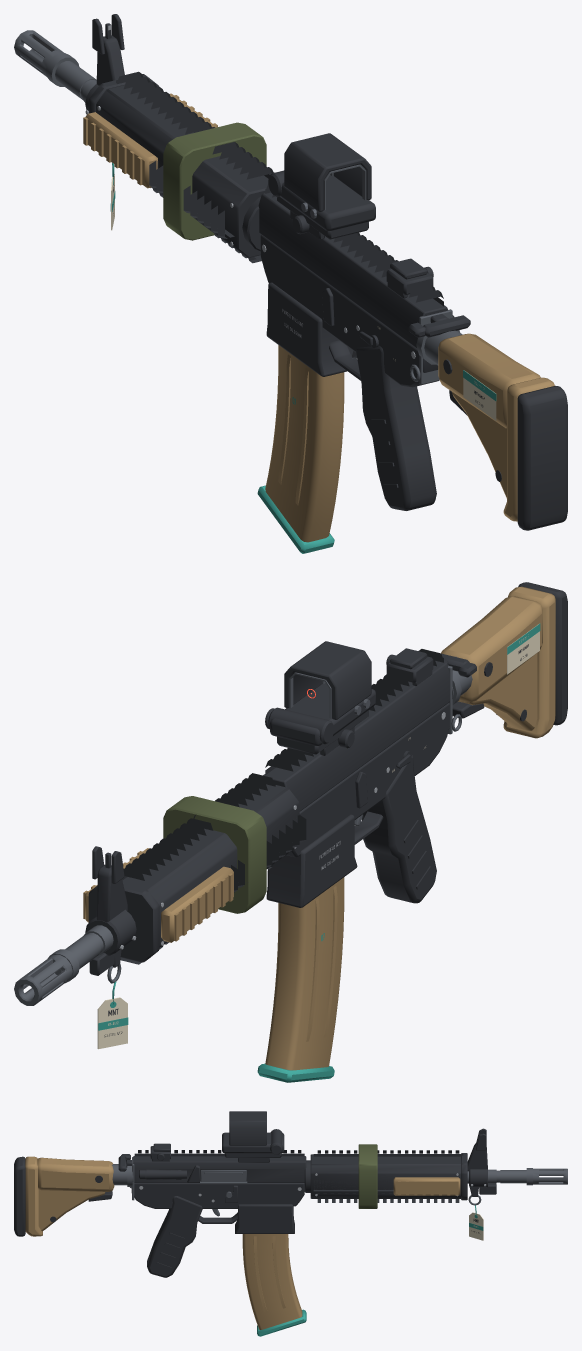
3 views of the same model, one above another, from view 1: azimuth 30°, elevation 25°; view 2: azimuth 150°, elevation 25°; view 3: azimuth 270°, elevation 25° (orthographic). The views are drawn at different scales.
Parts seen in each view (by area): view 1: body, mag, body_fine, charging_handle; view 2: body, mag, body_fine; view 3: body, mag, dust_cover.
Boxes of the visible parts, <box> form: body: <box>14,14,567,530</box>; mag: <box>257,345,344,553</box>; body_fine: <box>85,25,496,420</box>; charging_handle: <box>408,314,470,337</box>; body: <box>14,582,567,1049</box>; mag: <box>257,877,344,1082</box>; body_fine: <box>98,623,540,1037</box>; body: <box>14,1111,567,1277</box>; mag: <box>242,1234,306,1336</box>; dust_cover: <box>200,1170,247,1183</box>.
Size of the model in its own units: 0.0786 by 0.3296 by 0.762.
